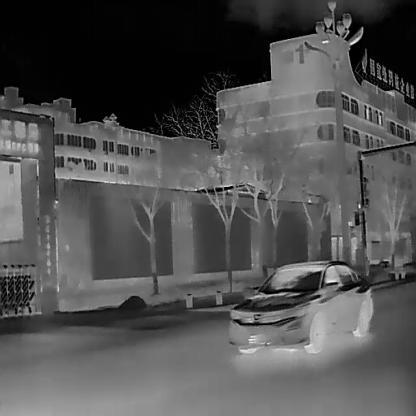car: (228, 259, 374, 353)
